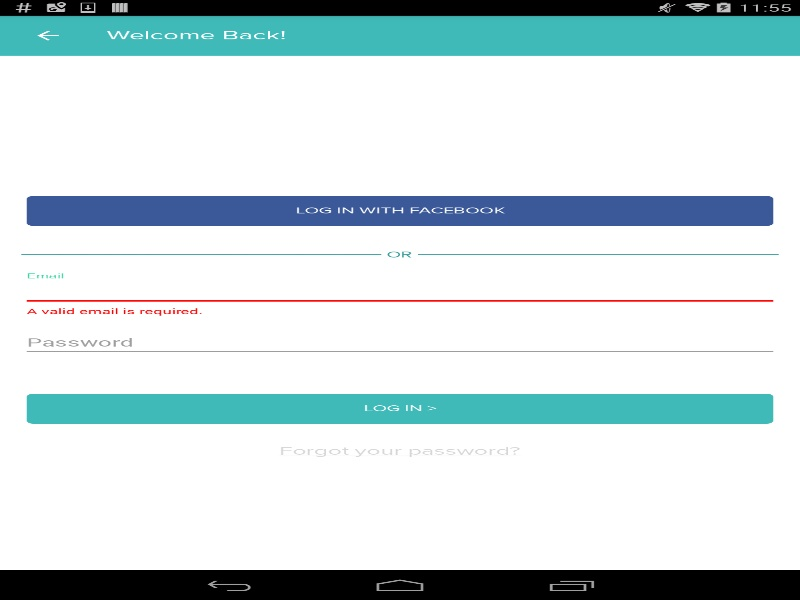Button: (26, 195, 773, 225), (26, 393, 773, 423), (10, 15, 85, 55)
Input: (21, 279, 778, 305), (21, 330, 778, 356)
